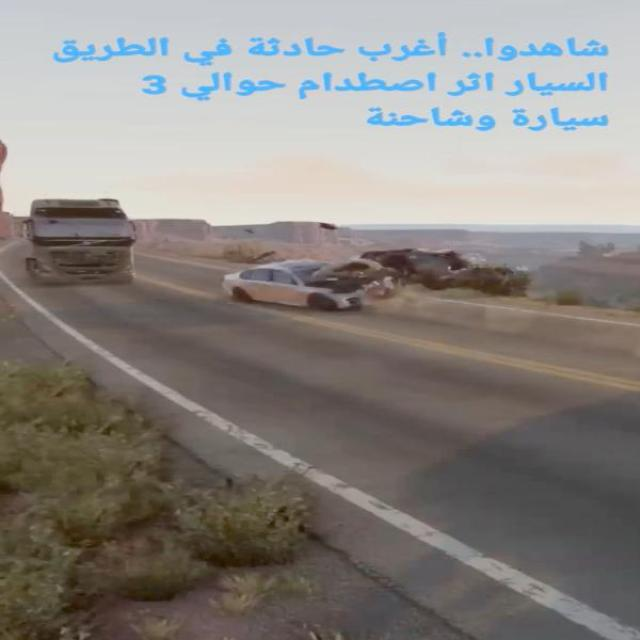accident: (221, 243, 490, 315)
